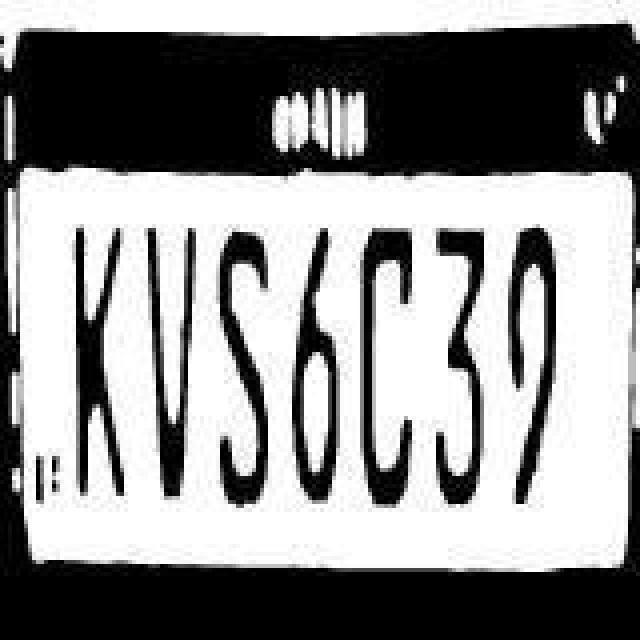3: (432, 224, 496, 520)
6: (276, 214, 348, 522)
9: (498, 222, 566, 530)
C: (352, 218, 416, 518)
K: (66, 214, 142, 522)
S: (204, 212, 276, 516)
V: (138, 212, 198, 508)
